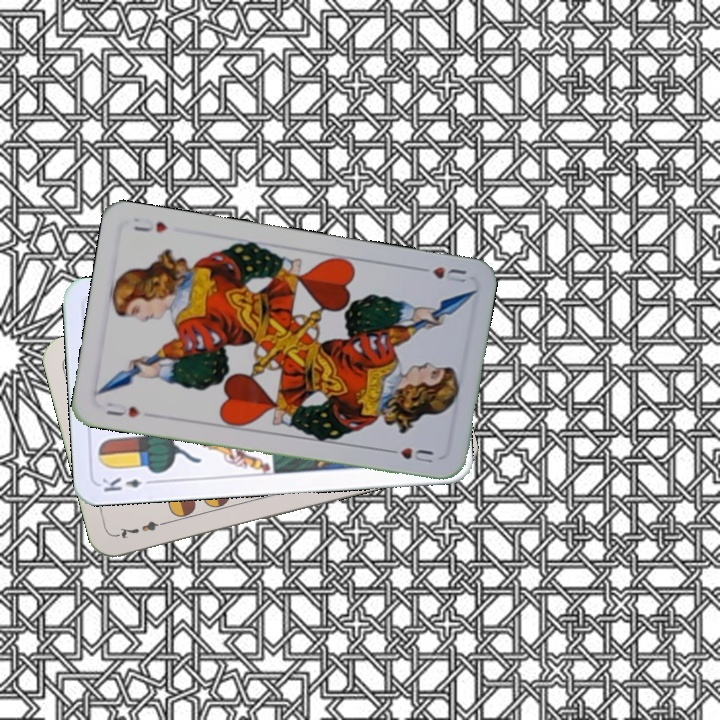E7: (113, 516, 171, 541)
EK: (98, 473, 157, 495)
HU: (412, 262, 469, 285), (101, 398, 143, 420)
